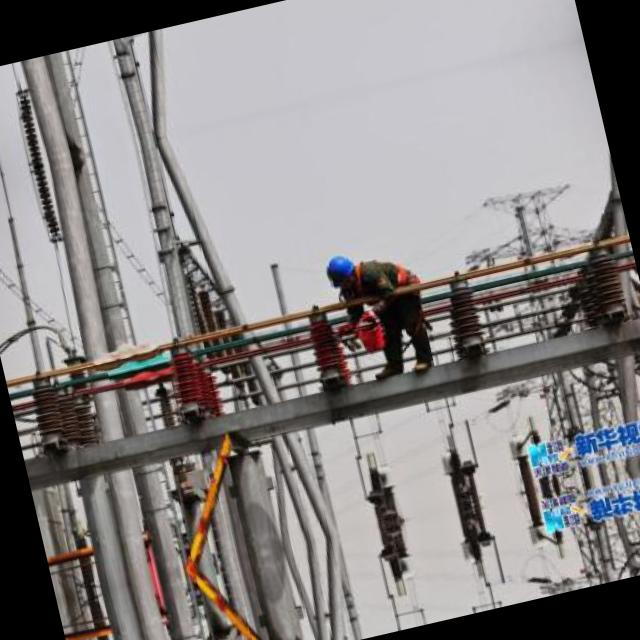helmet: (320, 248, 364, 294)
